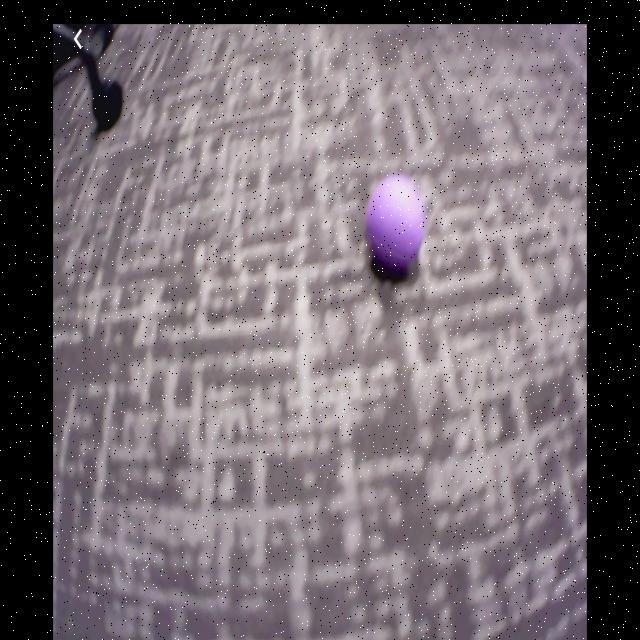ball: (366, 175, 428, 267)
